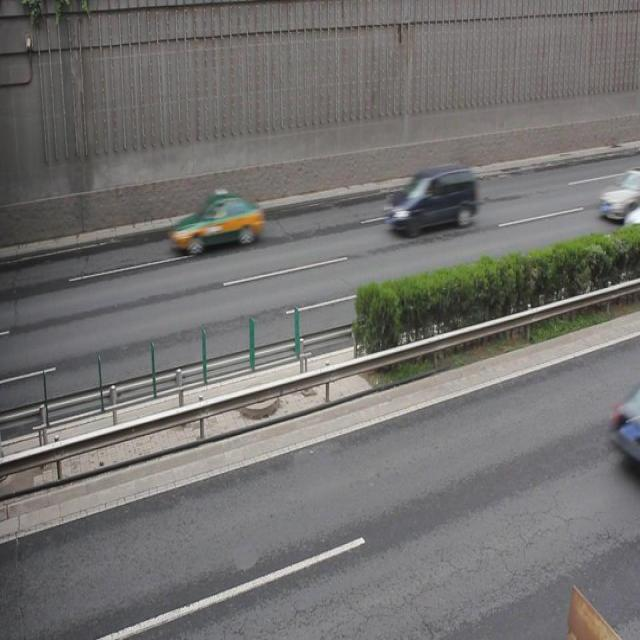car: (171, 190, 263, 254)
truck: (386, 165, 478, 237)
